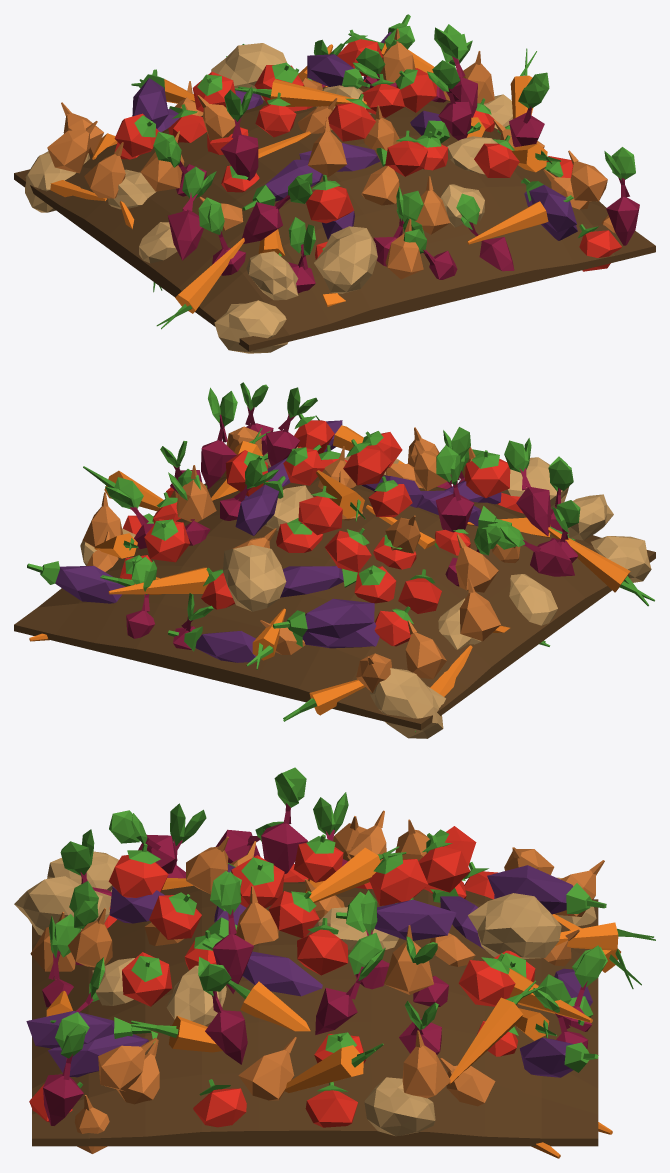
File: Pile_Mixed.fbx
The picture shows the model from 3 angles, top to bottom: view 1: azimuth 30°, elevation 25°; view 2: azimuth 150°, elevation 25°; view 3: azimuth 270°, elevation 25°; orthographic projection. The views are drawn at different scales.
Parts seen in each view (by area): view 1: Pile_Mixed; view 2: Pile_Mixed; view 3: Pile_Mixed.
Boxes of the visible parts, x1,y1,x2,y2 form: Pile_Mixed: (14,14,655,353); Pile_Mixed: (14,382,655,738); Pile_Mixed: (14,767,655,1158).
Bounding box in the file's own units: 1.17 × 0.4396 × 1.13.
